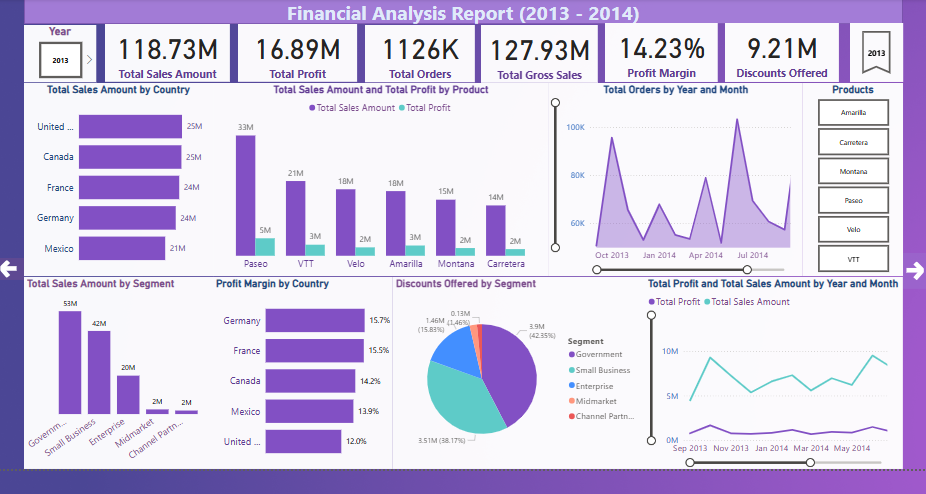

The page's visual inventory and layout, read from the dashboard file:
{"tool":"powerbi","page":{"name":"analysis 2","canvas":[1605,813],"ordinal":1},"visuals":[{"type":"shape","box":[45,0,1520,43.3],"z":0},{"type":"card","title":"Profit | Current vs Prior Year","fields":{"Values":["Analysis by measures.Total Profit"]},"box":[415.1,43.2,205.8,100.3],"z":1000},{"type":"card","title":"Orders | Current vs Prior Year","fields":{"Values":["Analysis by measures.Orders"]},"box":[634.7,45,190.2,98.6],"z":2000},{"type":"card","title":"Profit Margin| Current vs Prior Year","fields":{"Values":["Analysis by measures.Profit Margin"]},"box":[1049.8,41.5,195.4,102],"z":3000},{"type":"card","title":"Discounts  | Current vs Prior Year","fields":{"Values":["Analysis by measures.Discounts Offered"]},"box":[1257.4,41.5,197.2,102],"z":4000},{"type":"barChart","fields":{"Category":["financials.Country"],"Y":["Analysis by measures.Total Sales Amount"]},"box":[45,145.3,326.9,333.8],"z":5000},{"type":"barChart","fields":{"Category":["financials.Country"],"Y":["Analysis by measures.Profit Margin"]},"box":[371.8,480.8,311.3,332.1],"z":6000},{"type":"lineChart","fields":{"Category":["Date Table.Date.Variation.Date Hierarchy.Year","Date Table.Date.Variation.Date Hierarchy.Month"],"Y":["Analysis by measures.Total Profit","Analysis by measures.Total Sales Amount"]},"box":[1119,480.8,446.2,332.1],"z":7000},{"type":"slicer","title":"Products","fields":{"Values":["financials.Product"]},"box":[1392.3,145.3,173,333.8],"z":8000},{"type":"actionButton","box":[1565.3,440.1,39.7,62.1],"z":9000},{"type":"actionButton","box":[0,447.9,45,38],"z":10000},{"type":"slicer","title":"Year","fields":{"Values":["Date Table.Date.Variation.Date Hierarchy.Year"]},"box":[45,45,124.5,98.6],"z":11000},{"type":"card","title":"Profit | Current vs Prior Year","fields":{"Values":["Analysis by measures.Total Sales Amount"]},"box":[185.1,43.2,216.2,100.3],"z":12000},{"type":"clusteredColumnChart","fields":{"Category":["financials.Segment"],"Y":["Analysis by measures.Total Sales Amount"]},"box":[45,480.8,326.9,332.1],"z":13000},{"type":"pieChart","fields":{"Category":["financials.Segment"],"Y":["Analysis by measures.Discounts Offered"]},"box":[683.2,480.8,435.8,332.1],"z":14000},{"type":"clusteredColumnChart","fields":{"Category":["financials.Product"],"Y":["Analysis by measures.Total Sales Amount","Analysis by measures.Total Profit"]},"box":[371.8,145.3,581.1,333.8],"z":15000},{"type":"stackedAreaChart","fields":{"Category":["Date Table.Date.Variation.Date Hierarchy.Year","Date Table.Date.Variation.Date Hierarchy.Month"],"Y":["Analysis by measures.Total Orders"]},"box":[953,145.3,439.3,333.8],"z":16000},{"type":"card","title":"Discounts  | Current vs Prior Year","fields":{"Values":["Analysis by measures.Total Gross Sales"]},"box":[835.4,45,202.4,100.3],"z":17000},{"type":"actionButton","box":[1473.6,41.5,91.7,102],"z":18000}]}

Visuals, with their boxes on the page's 1605x813 design canvas (x1, y1, x2, y2). These are canvas units, not pixel positions in the 926x494 screenshot, which may show the page scaled, cropped or inside an application window:
shape: [x1=45, y1=0, x2=1565, y2=43]
"Profit | Current vs Prior Year" card: [x1=415, y1=43, x2=621, y2=144]
"Orders | Current vs Prior Year" card: [x1=635, y1=45, x2=825, y2=144]
"Profit Margin| Current vs Prior Year" card: [x1=1050, y1=42, x2=1245, y2=144]
"Discounts  | Current vs Prior Year" card: [x1=1257, y1=42, x2=1455, y2=144]
barChart - financials.Country x Analysis by measures.Total Sales Amount: [x1=45, y1=145, x2=372, y2=479]
barChart - financials.Country x Analysis by measures.Profit Margin: [x1=372, y1=481, x2=683, y2=813]
lineChart - Date Table.Date.Variation.Date Hierarchy.Year x Date Table.Date.Variation.Date Hierarchy.Month: [x1=1119, y1=481, x2=1565, y2=813]
"Products" slicer: [x1=1392, y1=145, x2=1565, y2=479]
actionButton: [x1=1565, y1=440, x2=1605, y2=502]
actionButton: [x1=0, y1=448, x2=45, y2=486]
"Year" slicer: [x1=45, y1=45, x2=170, y2=144]
"Profit | Current vs Prior Year" card: [x1=185, y1=43, x2=401, y2=144]
clusteredColumnChart - financials.Segment x Analysis by measures.Total Sales Amount: [x1=45, y1=481, x2=372, y2=813]
pieChart - financials.Segment x Analysis by measures.Discounts Offered: [x1=683, y1=481, x2=1119, y2=813]
clusteredColumnChart - financials.Product x Analysis by measures.Total Sales Amount: [x1=372, y1=145, x2=953, y2=479]
stackedAreaChart - Date Table.Date.Variation.Date Hierarchy.Year x Date Table.Date.Variation.Date Hierarchy.Month: [x1=953, y1=145, x2=1392, y2=479]
"Discounts  | Current vs Prior Year" card: [x1=835, y1=45, x2=1038, y2=145]
actionButton: [x1=1474, y1=42, x2=1565, y2=144]
